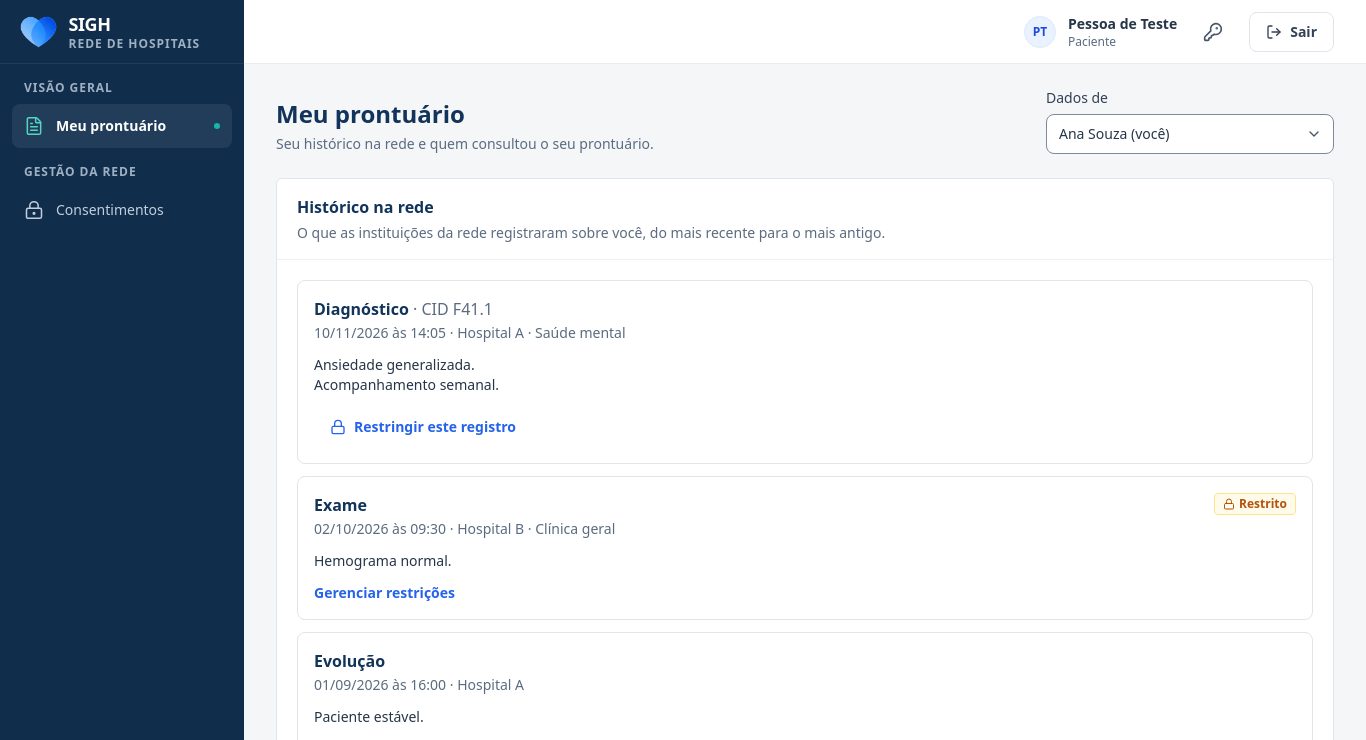
it: FE-05: de quem são os dados › representante legal escolhe de quem ver os dados
The image size is (1366, 740).
Check: the heading "Meu prontuário" is shown, box top-left (276, 97), bottom-right (465, 130)
Select "Bia Souza (representado)" in the dropdown labelled "Dados de" at (1190, 134), box top-left (1046, 114), bottom-right (1334, 154)
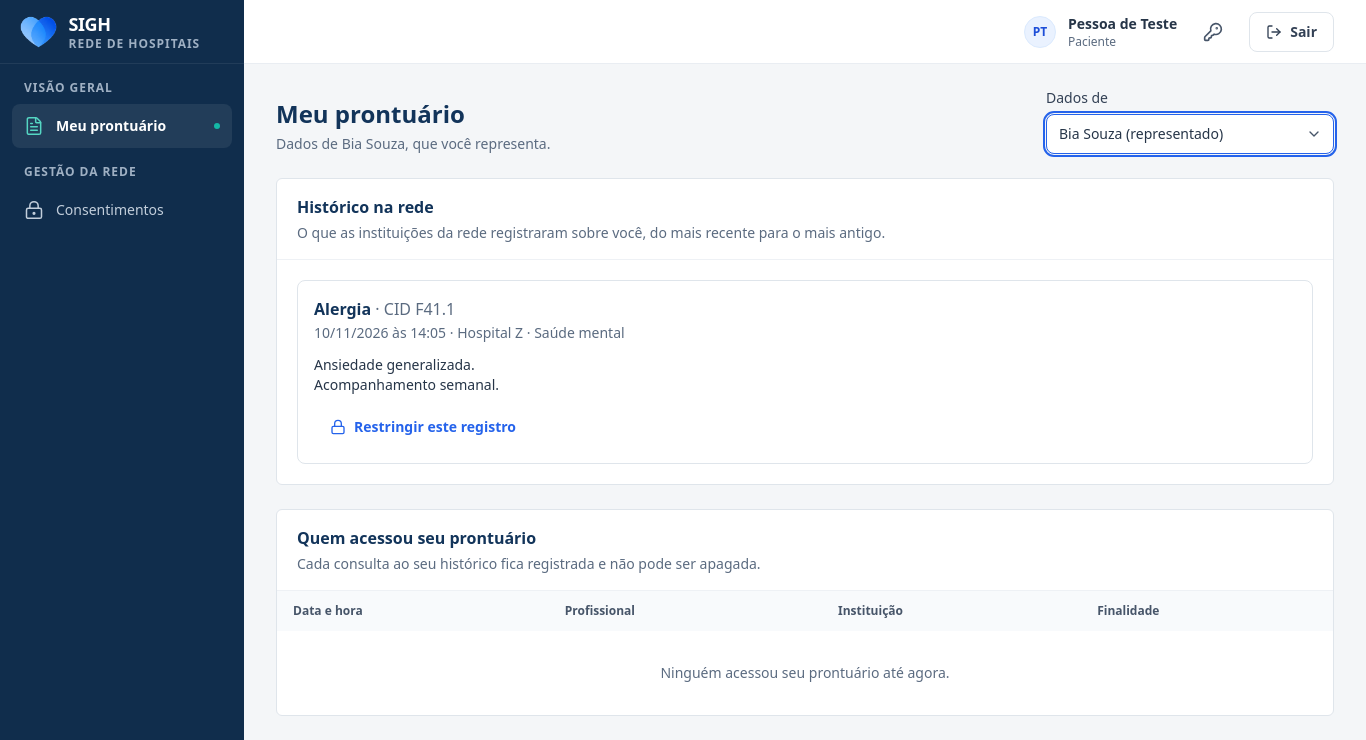
Check: the element "Alergia" is shown, box top-left (297, 280), bottom-right (1313, 464)
Check: the text "Dados de Bia Souza, que você representa." is shown, box top-left (276, 134), bottom-right (550, 154)
Check: the heading "Diagnóstico" is gone
